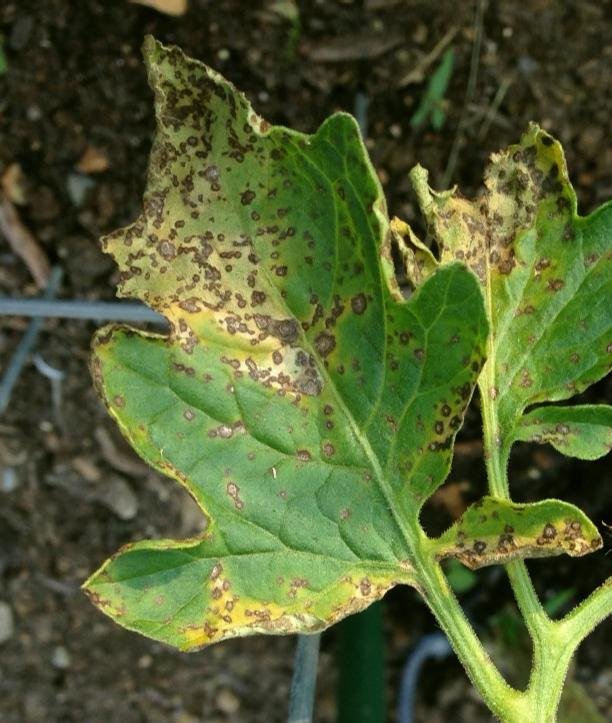Tomato Septoria leaf spot: (70, 15, 605, 667), (355, 107, 612, 469)
